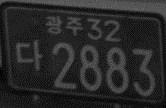2: (52, 41, 77, 90), (104, 19, 121, 43)
3: (131, 47, 155, 97), (86, 17, 102, 39)
8: (105, 46, 129, 94), (79, 44, 102, 92)
광주_O: (44, 14, 83, 36)
다: (15, 40, 42, 72)
